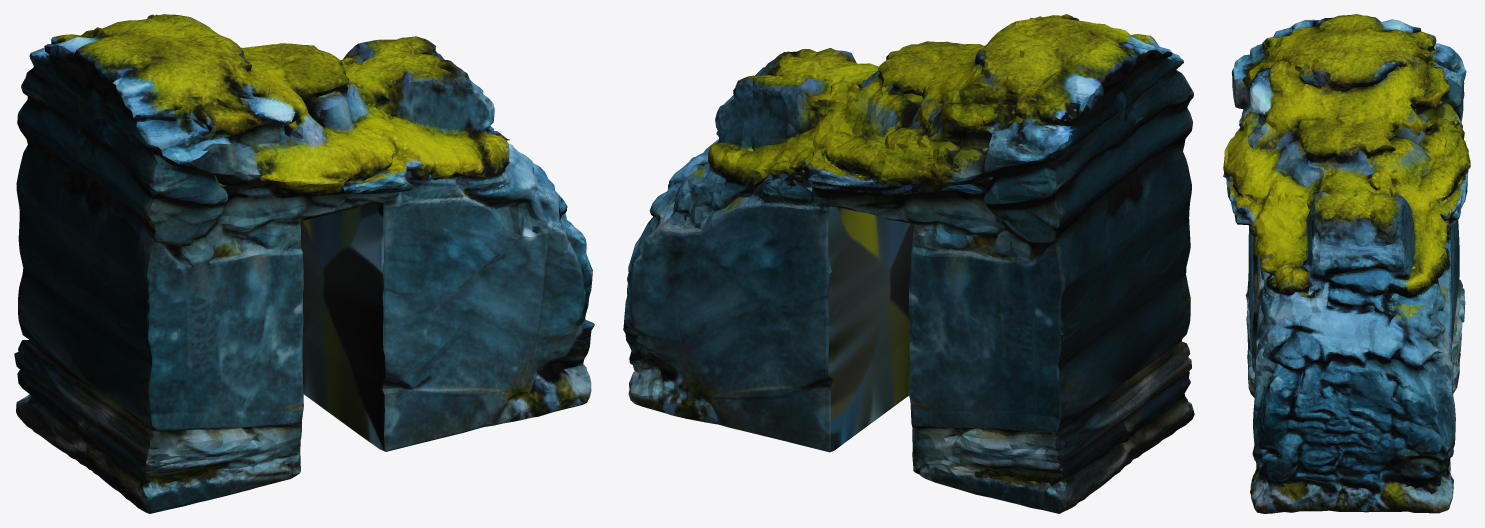
The model's file is traveler_env_coast_mouth_shale_ravine_split_00001_.glb.
The picture shows the model from 3 angles, left to right: view 1: azimuth 30°, elevation 25°; view 2: azimuth 150°, elevation 25°; view 3: azimuth 270°, elevation 25°; orthographic projection. The views are drawn at different scales.
Parts seen in each view (by area): view 1: temp_mesh.ply; view 2: temp_mesh.ply; view 3: temp_mesh.ply.
Part boxes in pixels (x1=…): temp_mesh.ply: x1=14, y1=14, x2=594, y2=513; temp_mesh.ply: x1=623, y1=14, x2=1194, y2=513; temp_mesh.ply: x1=1223, y1=14, x2=1470, y2=513.
Bounding box in the file's own units: 1.97 × 1.7 × 1.14.
1 material, 1 textured.
